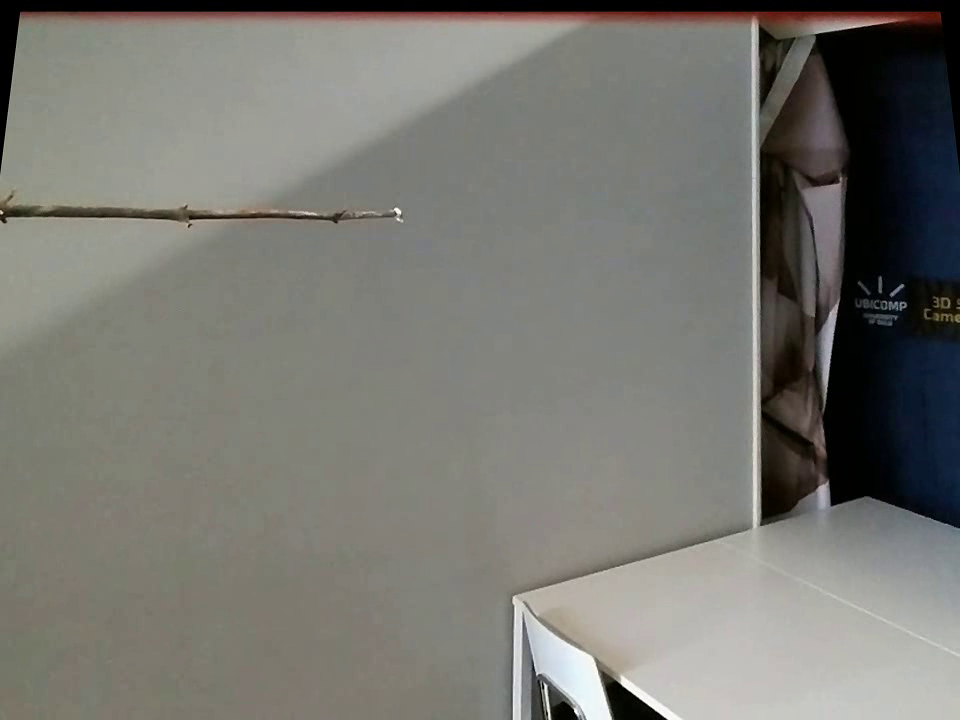branch: (0, 181, 380, 237)
